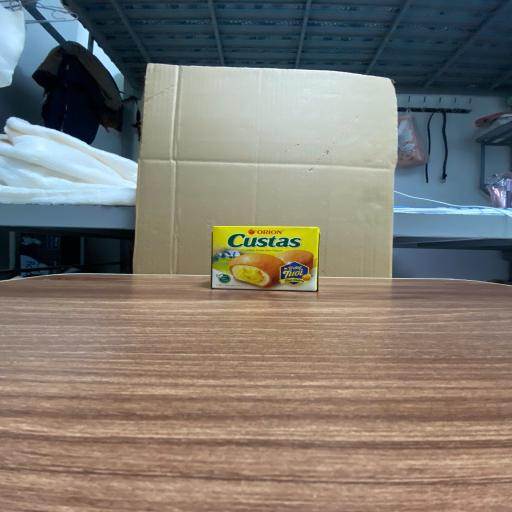custas: (210, 225, 322, 291)
